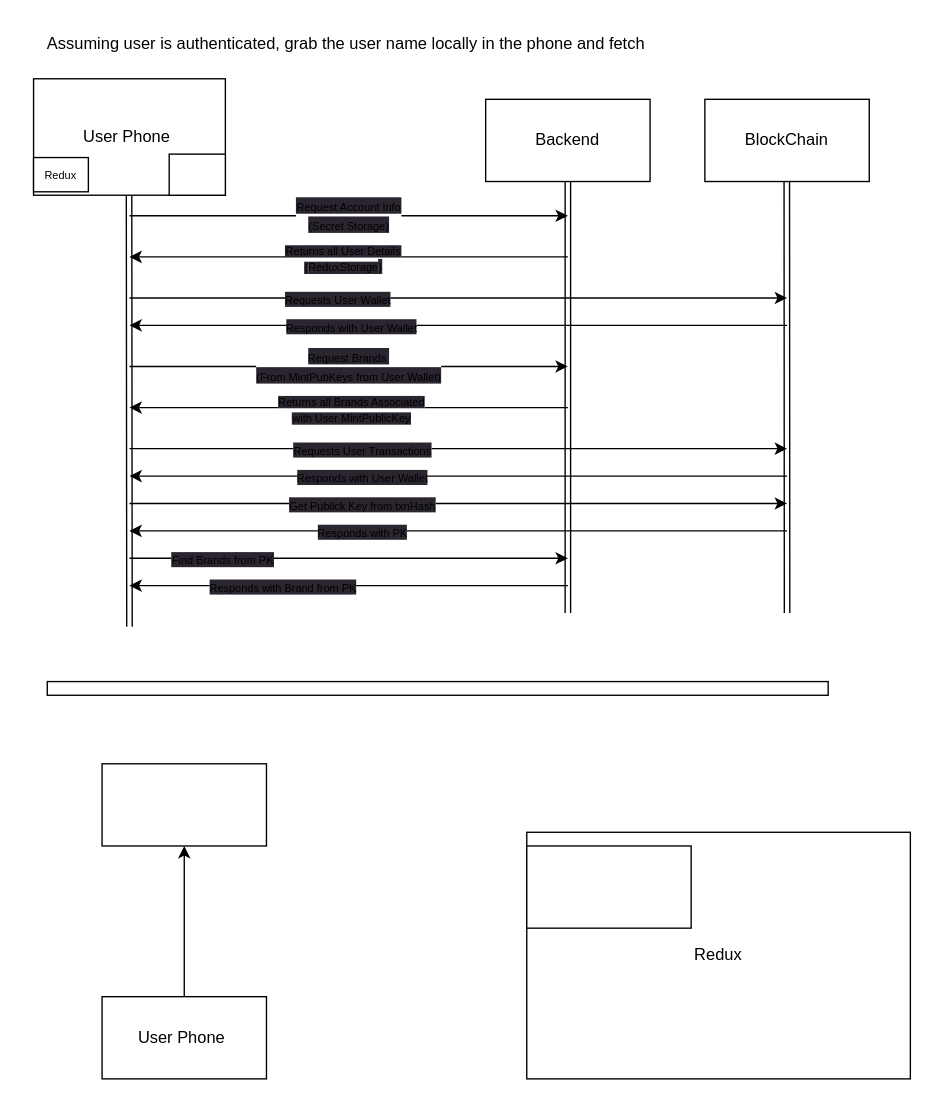
The diagram is 934 pixels wide and 1103 high, and some of its shapes have lost their labels. The centre of each missing label's shape, as x and y in pixels:
"Backend (has brands of giftcards)" belongs at (x=183, y=804).
"Brands id, brandName" belongs at (x=608, y=886).
"Secret Storage" belongs at (x=196, y=174).
